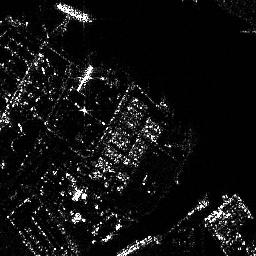ship: (55, 2, 95, 23)
